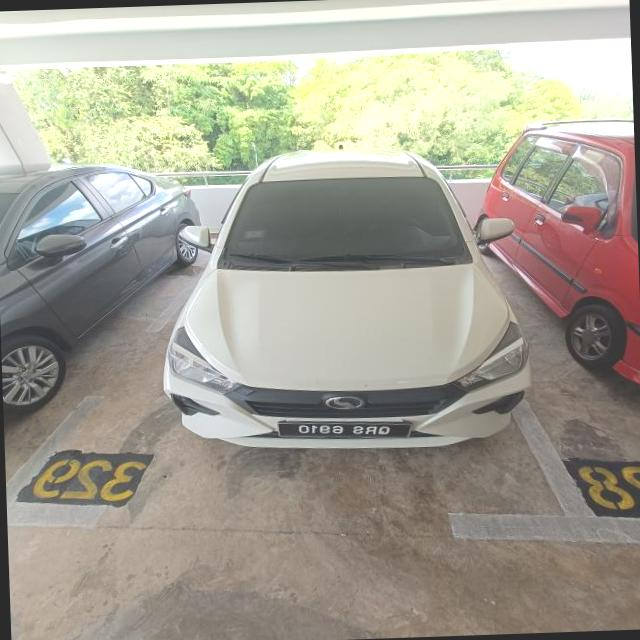PeroduaAxia: (153, 138, 534, 456)
